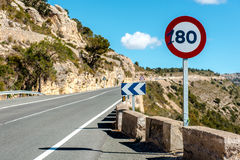Speed_limit_80km: (165, 17, 207, 57)
